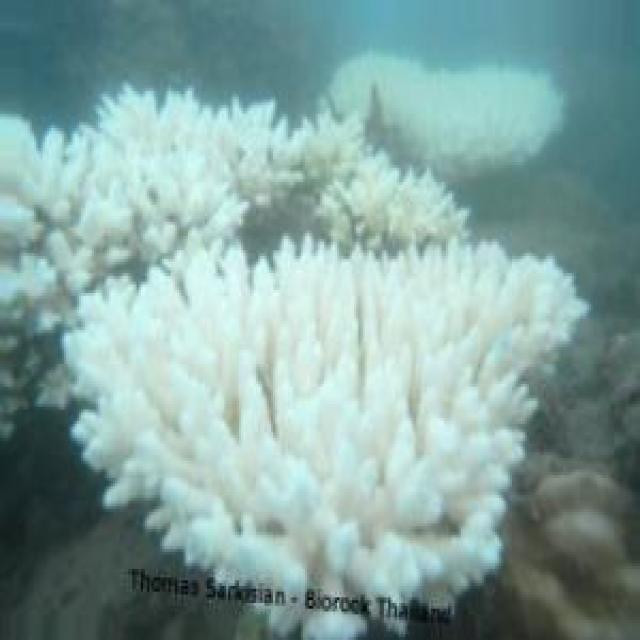bleached coral: (66, 242, 585, 598), (36, 88, 245, 274), (128, 435, 320, 546), (64, 279, 151, 478), (322, 152, 468, 251), (393, 85, 557, 154), (90, 148, 237, 222), (158, 273, 241, 387), (433, 424, 521, 529), (275, 284, 356, 398), (506, 256, 587, 370), (245, 134, 356, 216), (348, 401, 416, 523), (17, 137, 79, 233), (401, 284, 471, 361)
